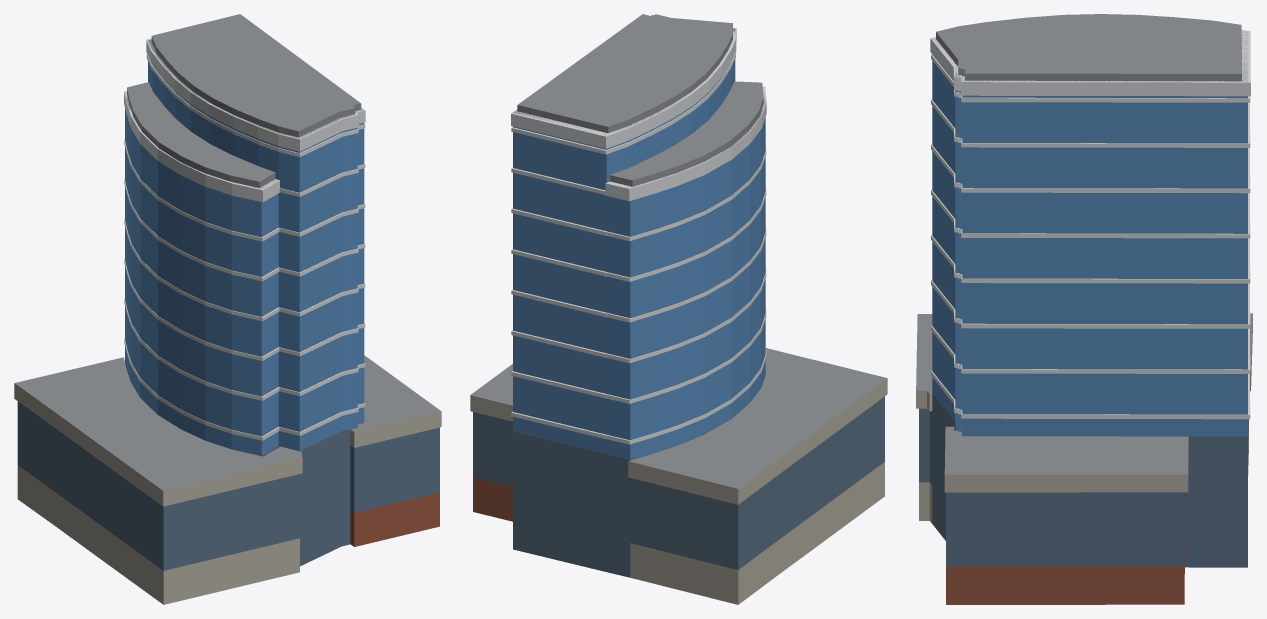
File: the_regent.glb
3 views of the same model, side by side, from view 1: azimuth 30°, elevation 25°; view 2: azimuth 150°, elevation 25°; view 3: azimuth 270°, elevation 25° (orthographic). The views are drawn at different scales.
Visible parts, largest first — view 1: The_Regent; view 2: The_Regent; view 3: The_Regent.
Boxes of the visible parts, left/top/right/bottom form: The_Regent: left=14, top=14, right=441, bottom=604; The_Regent: left=470, top=14, right=887, bottom=604; The_Regent: left=916, top=14, right=1252, bottom=604.
Bounding box in the file's own units: 58.19 × 82.8 × 51.32.
